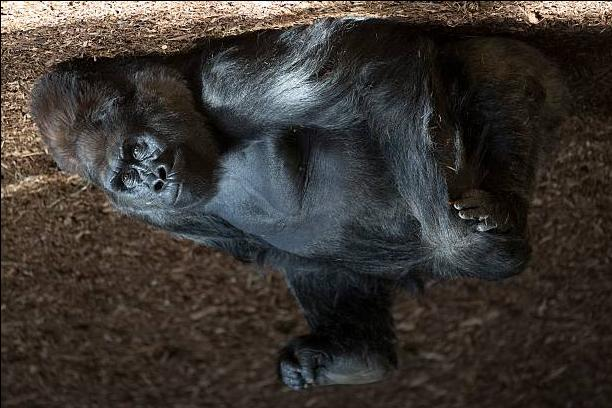gorille_Autres: (0, 36, 588, 399)
